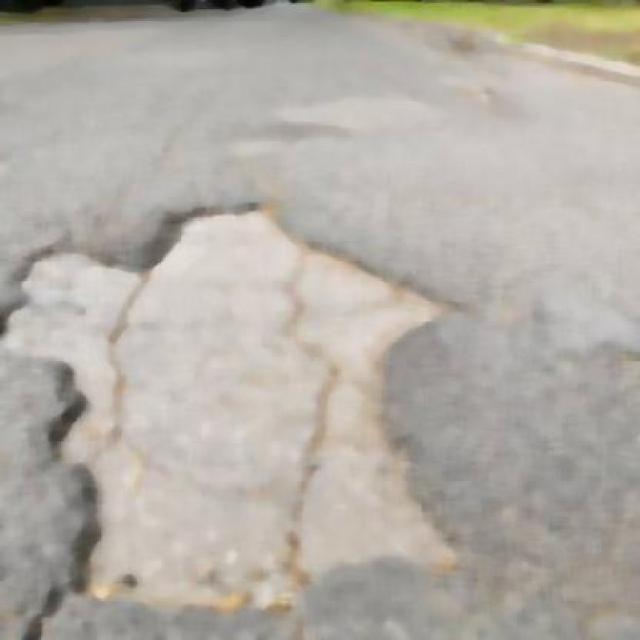Pothole: (0, 198, 463, 617)
